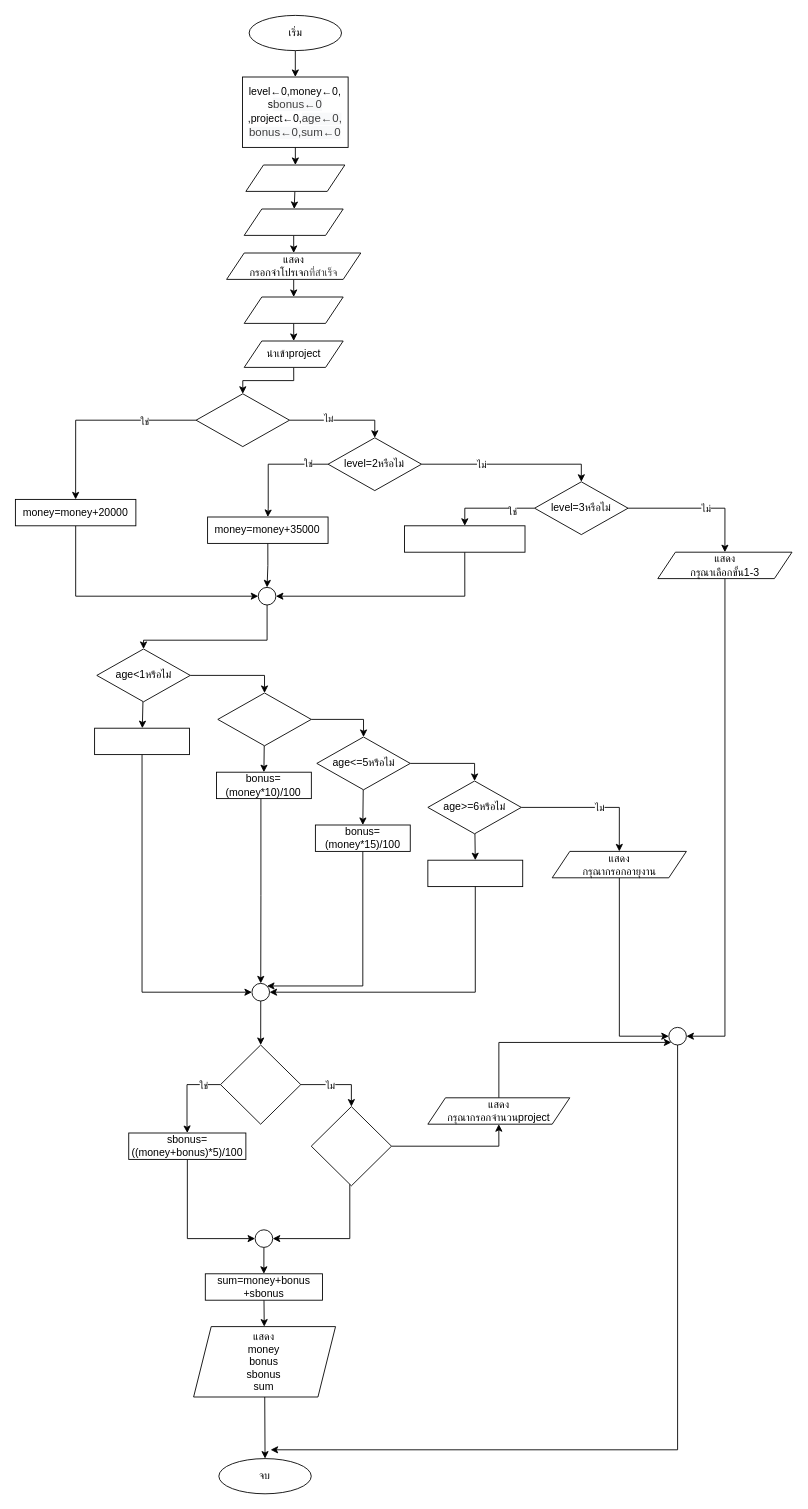
Image size: 808x1509. Some labels were removed from this diagram. The shapes that lost their labels are listed below. From the top down, each one's box as (x1, y1, x2, y2) in pixels, then its label:
(245, 164, 345, 191): แสดง เลือกตำแหน่ง
(243, 208, 343, 235): แสดง กรอกอายุงาน
(243, 296, 343, 323): นำเข้าlevel
(195, 393, 290, 447): level=1หรือไม่
(404, 525, 525, 552): money=money+50000
(217, 692, 311, 746): age<=3หรือไม่
(94, 727, 189, 755): bonus=0
(427, 859, 523, 887): bonus=(money*20)/100
(220, 1044, 301, 1124): project>5 หรือไม่
(310, 1106, 392, 1186): project<=5 หรือไม่
